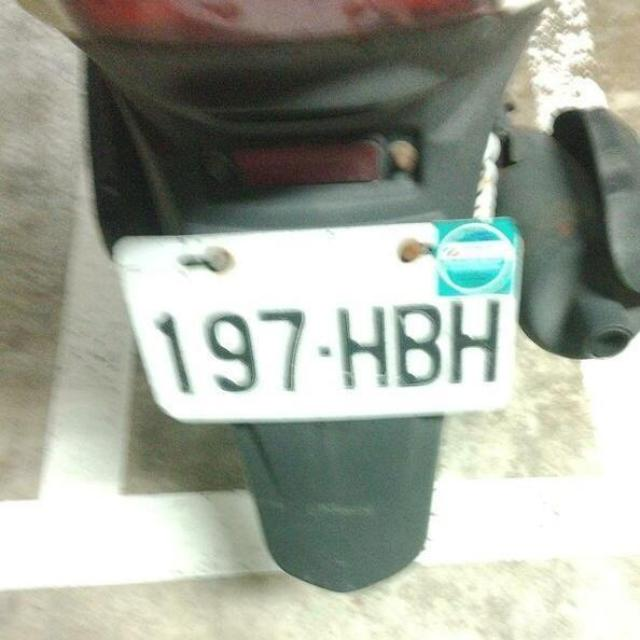W: (103, 177, 541, 458)
